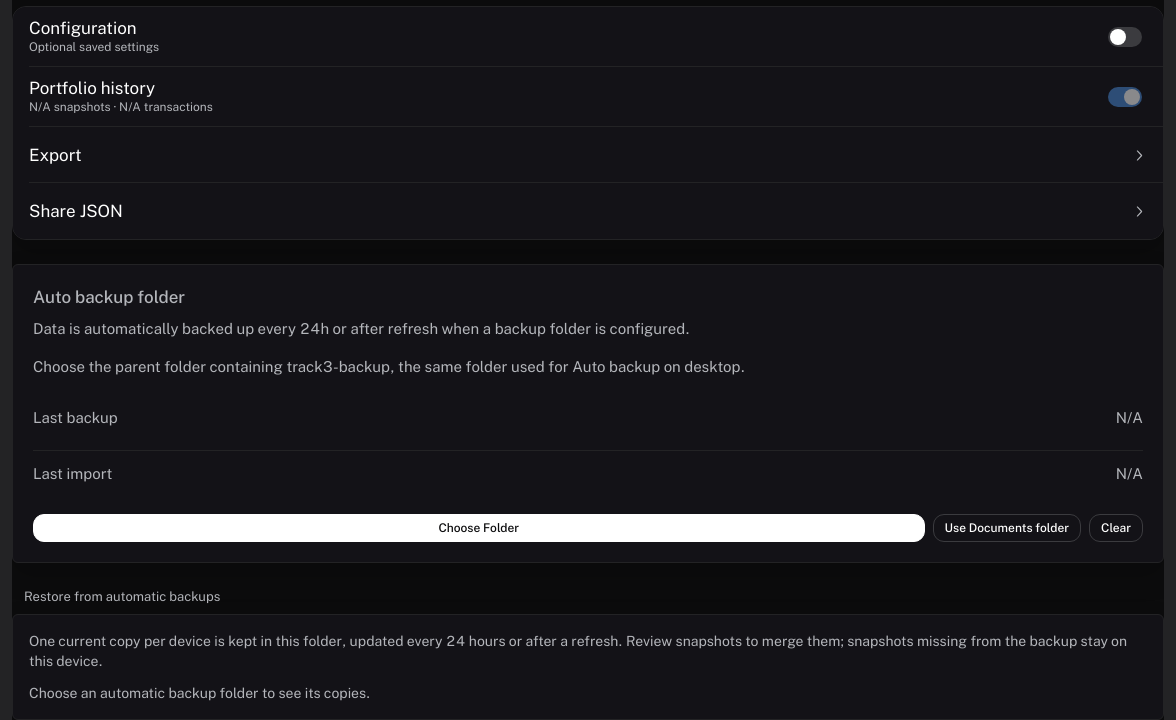
Test case: shows a bad first auto folder choice with the parent folder hint
(page scrolled)
Click the button "Choose Folder": (479, 528) [33,514,925,542]
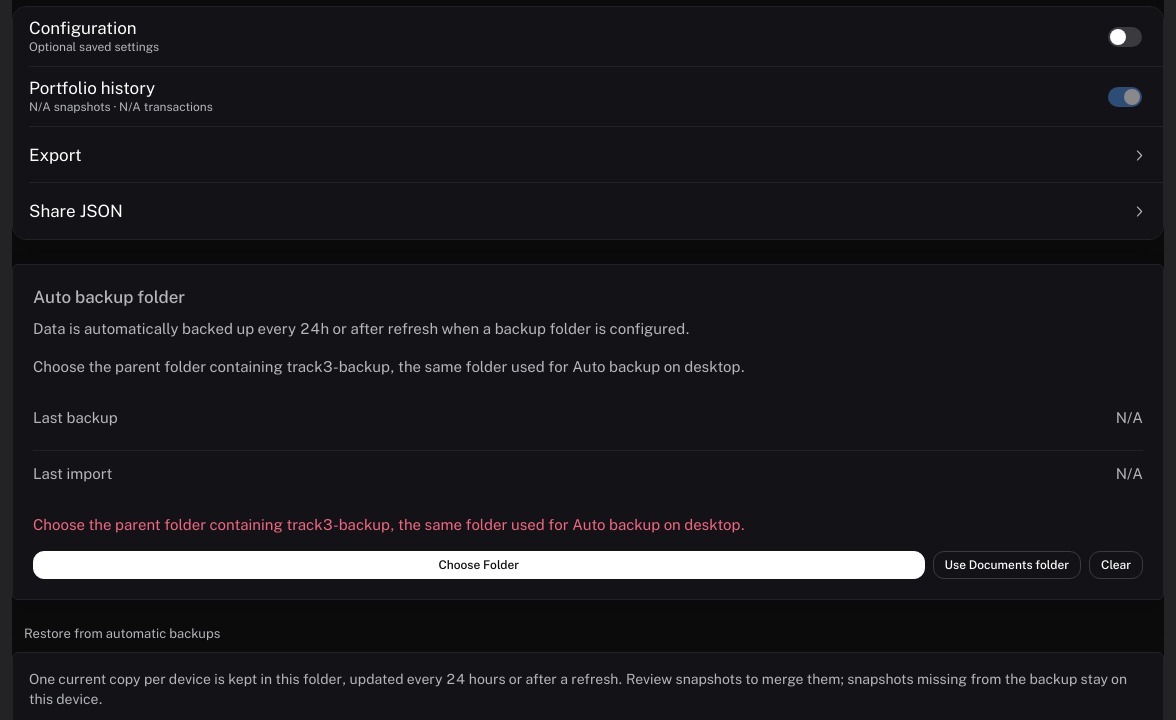
Check: the message shows "Choose the parent folder containing track3-backup", box [33,516,745,532]
